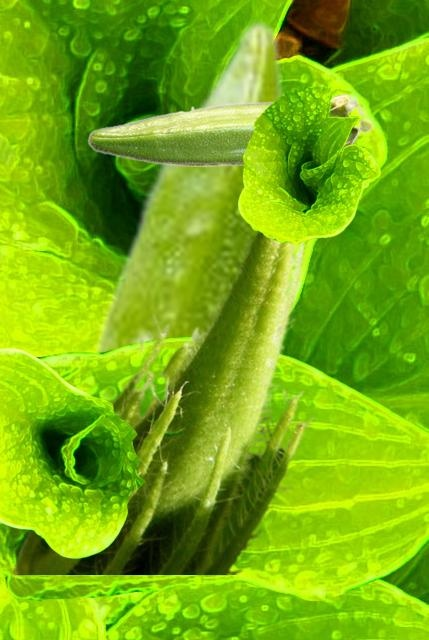okra: (8, 231, 323, 573), (88, 17, 288, 351), (87, 93, 372, 166)
